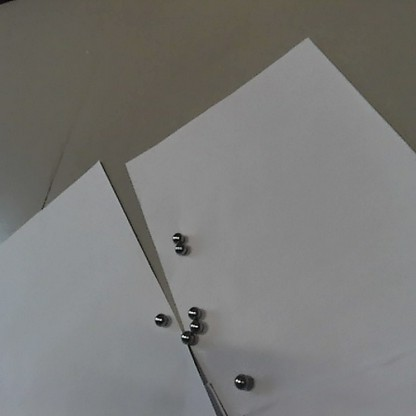ironball: (234, 374, 248, 387), (180, 331, 193, 343), (153, 312, 165, 325), (189, 321, 200, 332), (173, 242, 184, 253), (188, 307, 198, 317), (172, 231, 180, 241)
